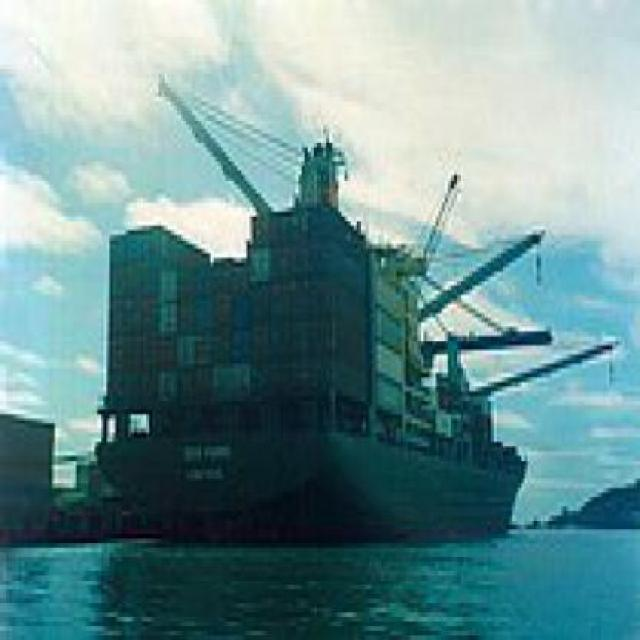container: (93, 116, 534, 540)
